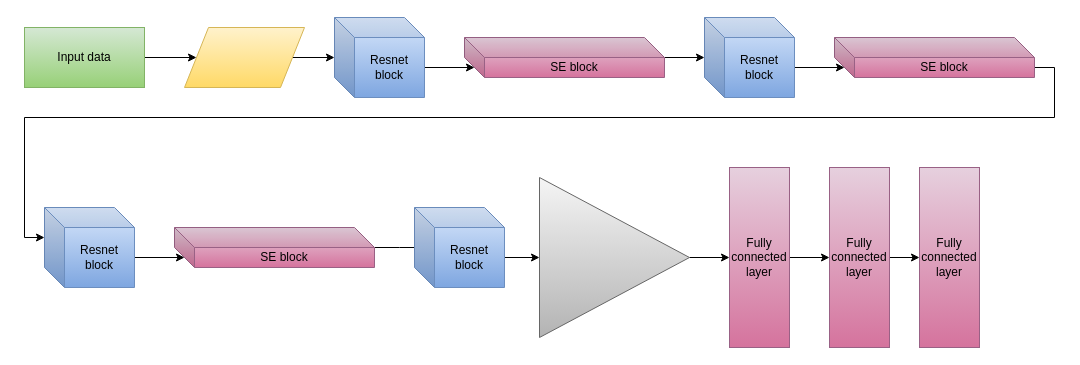
This 1080x365 diagram has some shape labels left out. Each missing label, with the box of its shape:
Conv layer (filter 3x3x16): (184, 26, 304, 88)
Global Average Pooling: (538, 176, 690, 338)
